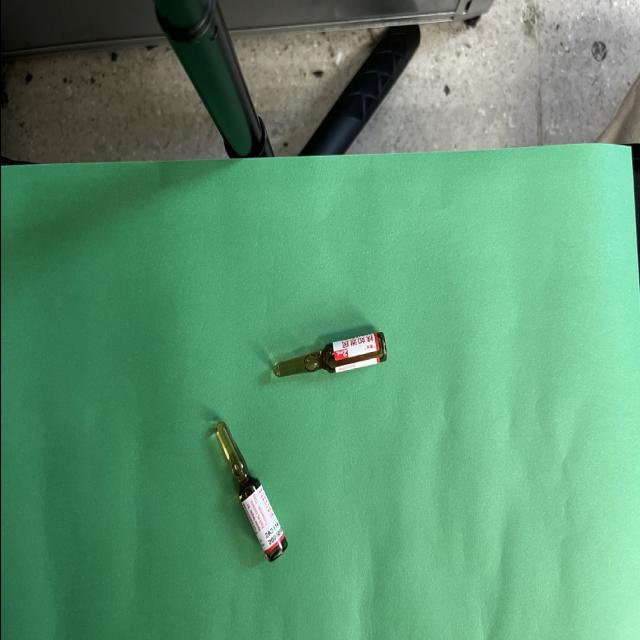Ampoules: (215, 421, 286, 561), (272, 332, 386, 377)
